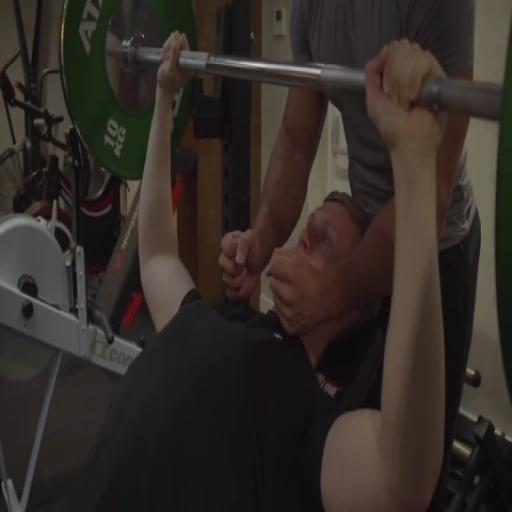exercise: (61, 27, 455, 511)
